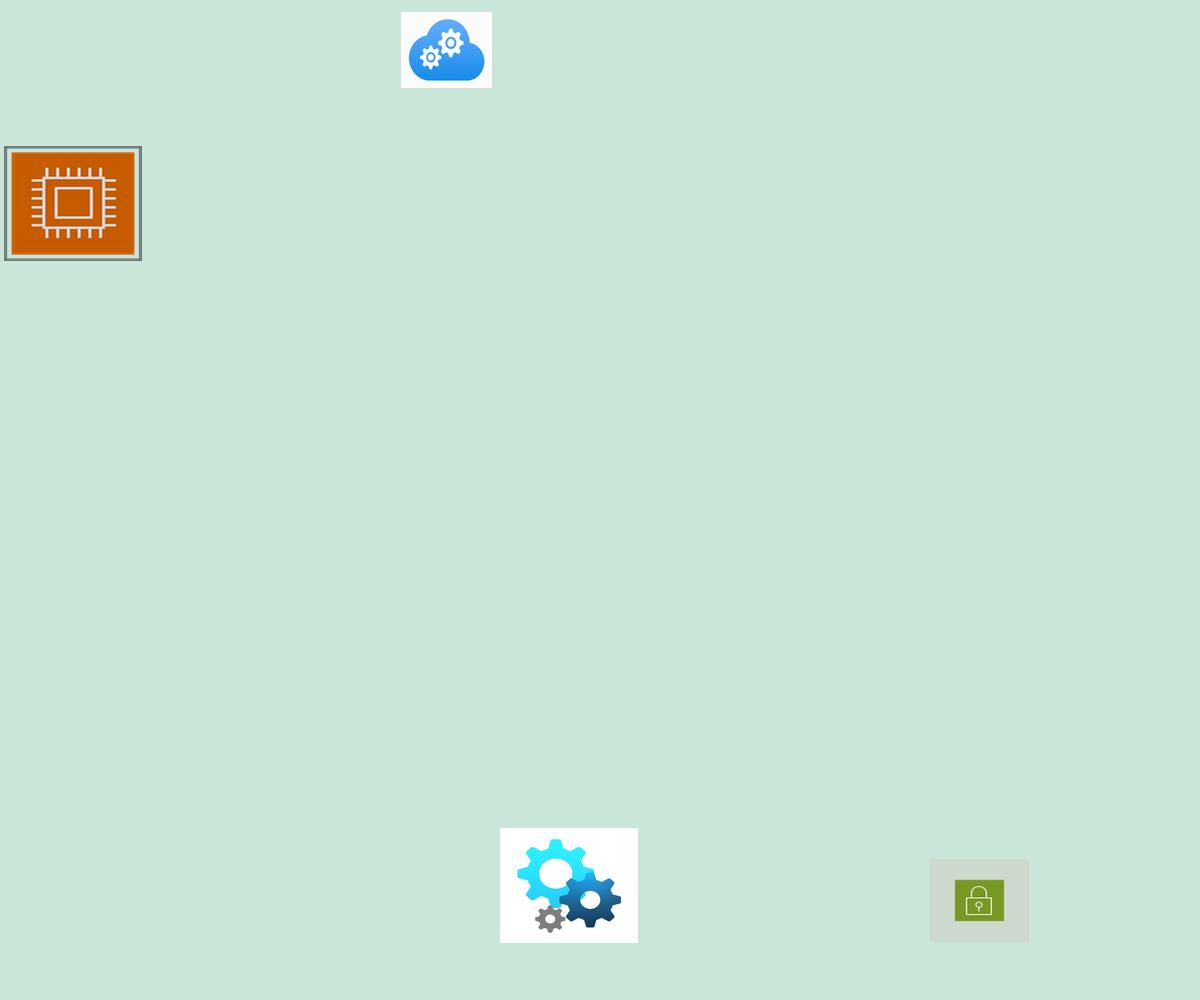AWS-Category_Compute: (4, 146, 142, 261)
AWS-Public-subnet: (930, 859, 1029, 942)
Azure_api: (500, 828, 638, 943)
Azure_cloud_services: (401, 12, 492, 88)
